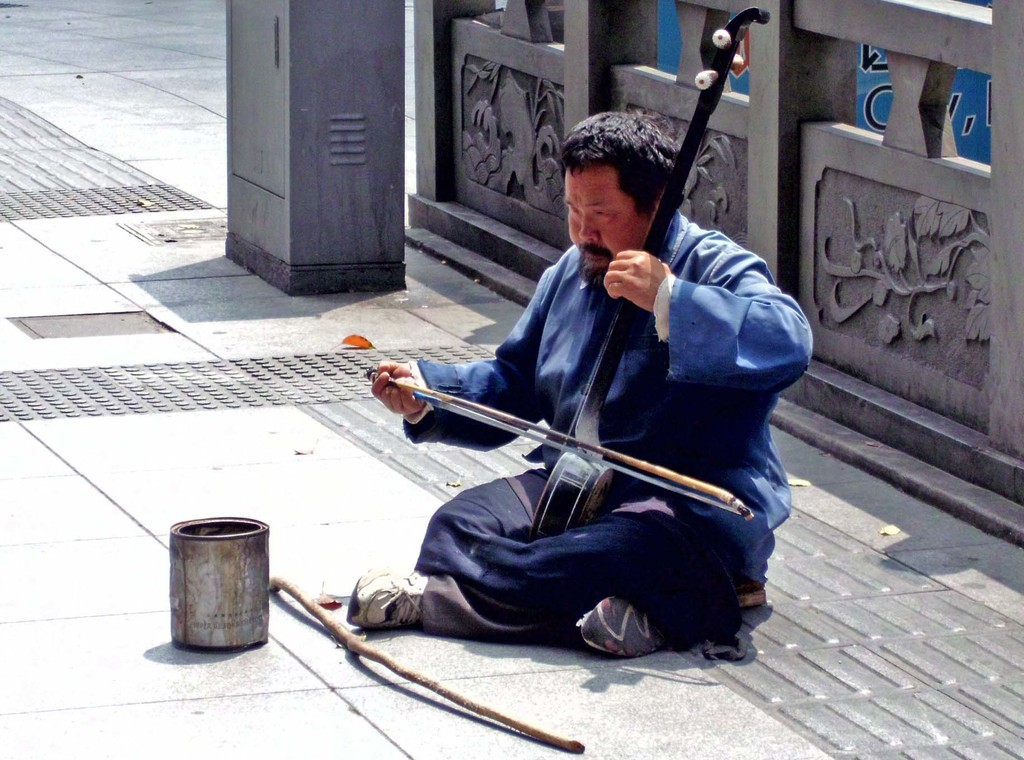Person: (346, 110, 812, 660)
